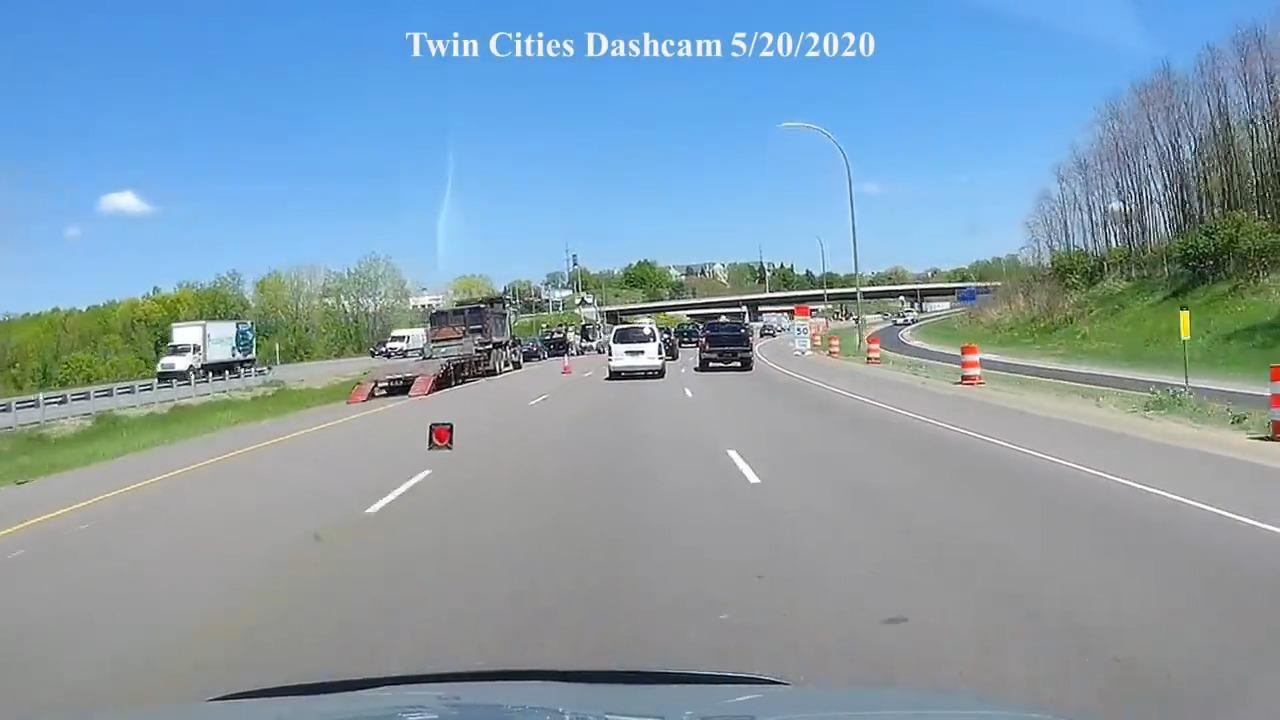car: (155, 343, 203, 385)
traffic cone: (956, 342, 986, 386), (866, 336, 882, 364), (827, 335, 841, 358), (561, 354, 573, 375)
traffic light: (1177, 309, 1190, 341)
